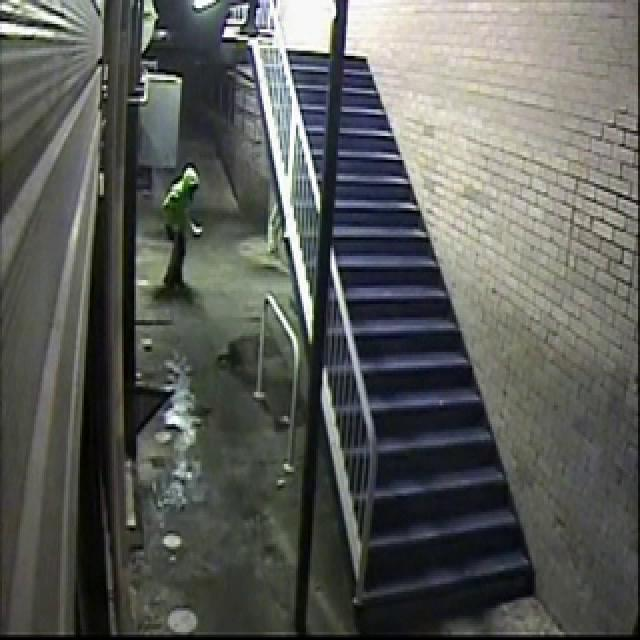arson: (160, 0, 266, 472)
